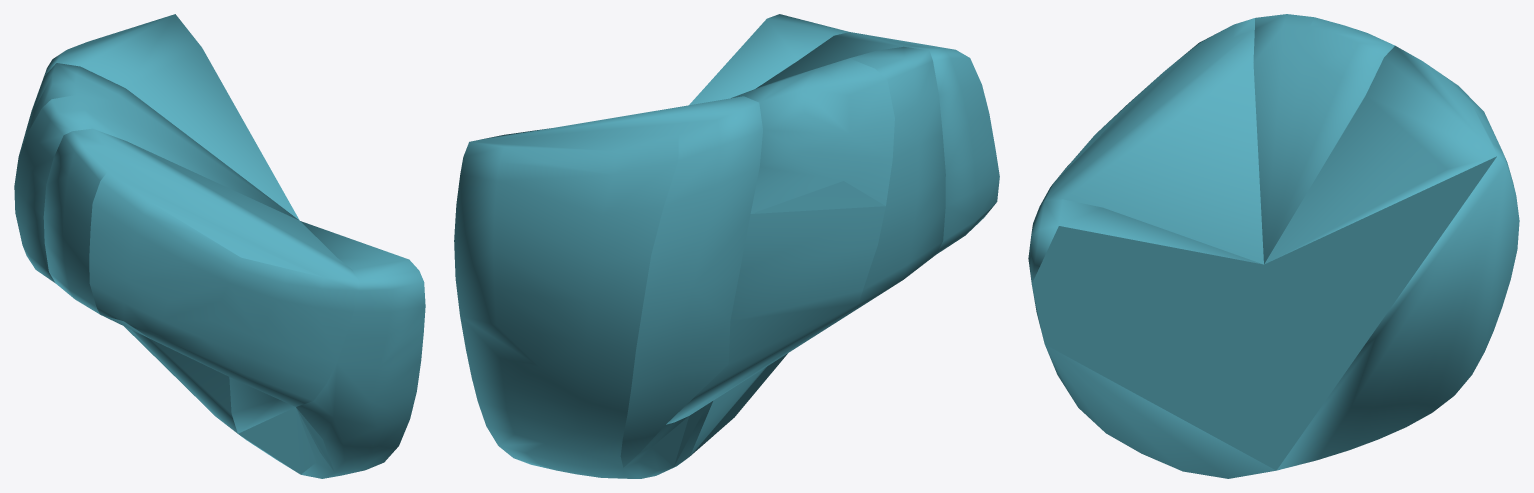
Rendered from split_unscaled.fbx.
The picture shows the model from 3 angles, left to right: view 1: azimuth 30°, elevation 25°; view 2: azimuth 150°, elevation 25°; view 3: azimuth 270°, elevation 25°; orthographic projection. The views are drawn at different scales.
Visible parts, largest first — view 1: Hips.002, Hips.004, Hips.005, Hips.003; view 2: Hips.005, Hips.003, Hips.002, Hips.004; view 3: Hips.005, Hips.004, Hips.002, Hips.003.
Part boxes in pixels (bbox=[...]): Hips.002: bbox=[43, 128, 359, 406]; Hips.004: bbox=[229, 221, 425, 478]; Hips.005: bbox=[44, 14, 299, 433]; Hips.003: bbox=[14, 63, 298, 283]; Hips.005: bbox=[454, 96, 762, 478]; Hips.003: bbox=[666, 46, 945, 424]; Hips.002: bbox=[756, 32, 999, 254]; Hips.004: bbox=[689, 14, 848, 455]; Hips.005: bbox=[1264, 45, 1519, 470]; Hips.004: bbox=[1028, 199, 1276, 478]; Hips.002: bbox=[1040, 18, 1263, 264]; Hips.003: bbox=[1253, 14, 1394, 263].
Bounding box in the file's own units: 16.91 × 24.43 × 30.12.
